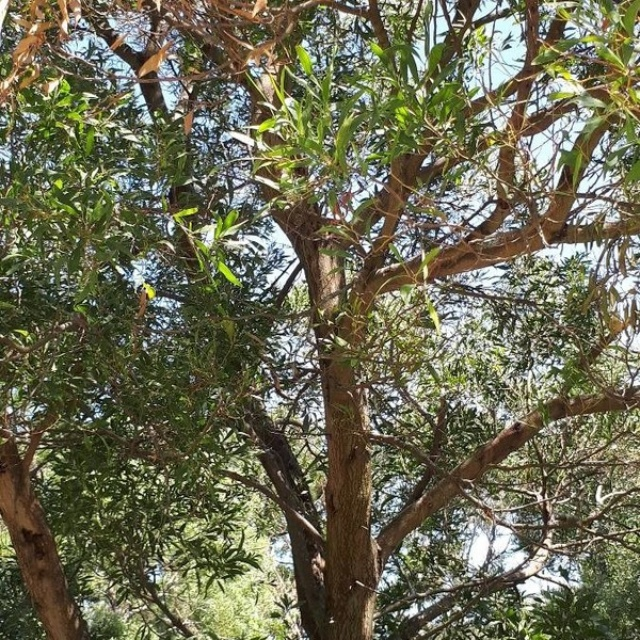obstacle: (192, 57, 483, 554), (48, 66, 192, 528)
